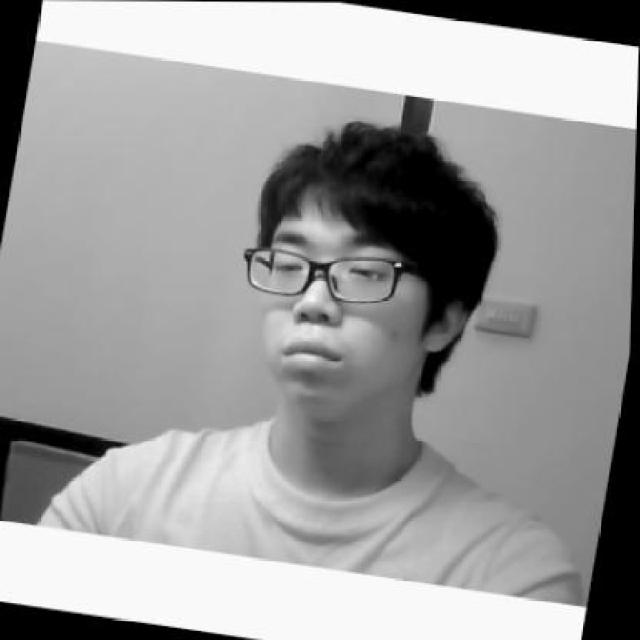inattentif: (219, 100, 498, 434)
